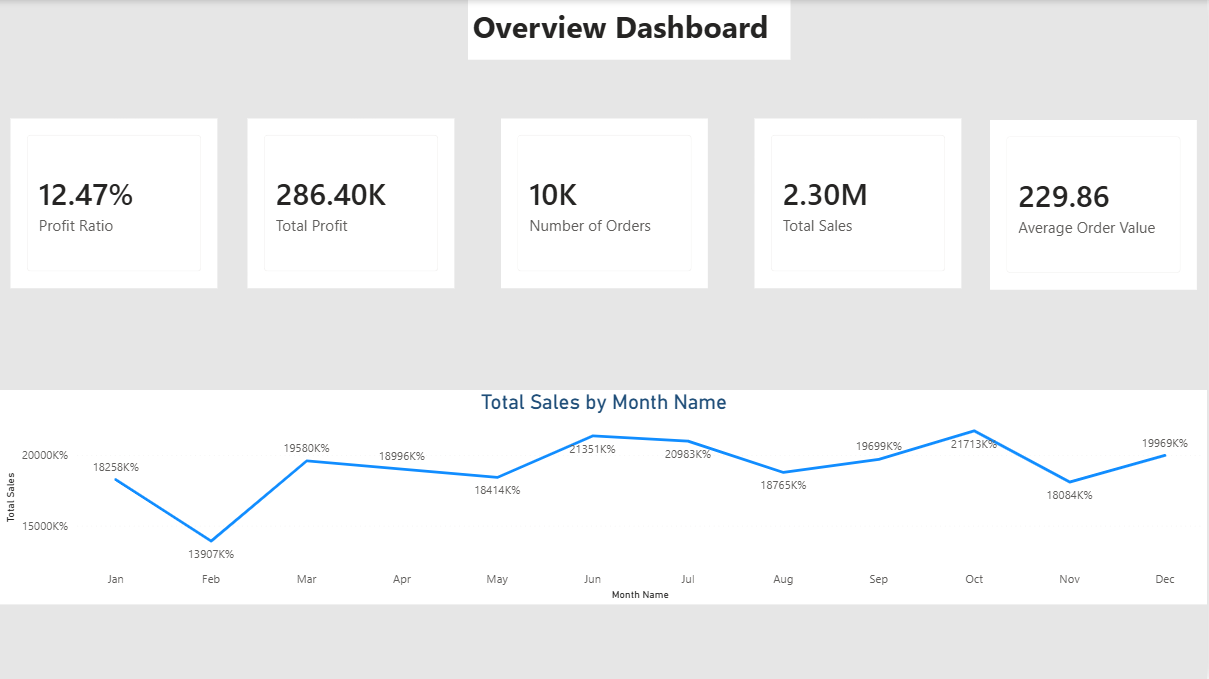

What the dashboard file says about the page in this screenshot:
{"tool":"powerbi","page":{"name":"Page 1","canvas":[1280,720],"ordinal":0},"visuals":[{"type":"cardVisual","fields":{"Data":["SampleSuperstore.Profit Ratio"]},"box":[11.1,125.7,219.5,179.7],"z":0},{"type":"lineChart","fields":{"Category":["SampleSuperstore.Month Name"],"Y":["SampleSuperstore.Total Sales"]},"box":[0,413.6,1280.4,227.5],"z":1000},{"type":"cardVisual","fields":{"Data":["SampleSuperstore.Average Order Value"]},"box":[1049.8,127.2,219.5,179.7],"z":2000},{"type":"cardVisual","fields":{"Data":["SampleSuperstore.Number of Orders"]},"box":[531.3,125.7,219.5,179.7],"z":3000},{"type":"textbox","box":[496.3,0,342,63.6],"z":4000},{"type":"cardVisual","fields":{"Data":["SampleSuperstore.Total Profit"]},"box":[262.5,125.7,219.5,179.7],"z":5000},{"type":"cardVisual","fields":{"Data":["SampleSuperstore.Total Sales"]},"box":[800.1,125.7,219.5,179.7],"z":6000}]}

Visuals, with their boxes in screenshot pixels (x1, y1, x2, y2), scaled from the page's 1280x720 canvas onto the 1209x679 screenshot:
cardVisual - SampleSuperstore.Profit Ratio: crop(10, 119, 218, 288)
lineChart - SampleSuperstore.Month Name x SampleSuperstore.Total Sales: crop(0, 390, 1208, 605)
cardVisual - SampleSuperstore.Average Order Value: crop(992, 120, 1199, 289)
cardVisual - SampleSuperstore.Number of Orders: crop(502, 119, 709, 288)
textbox: crop(469, 0, 792, 60)
cardVisual - SampleSuperstore.Total Profit: crop(248, 119, 455, 288)
cardVisual - SampleSuperstore.Total Sales: crop(756, 119, 963, 288)
